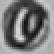correct: (0, 0, 52, 50)
